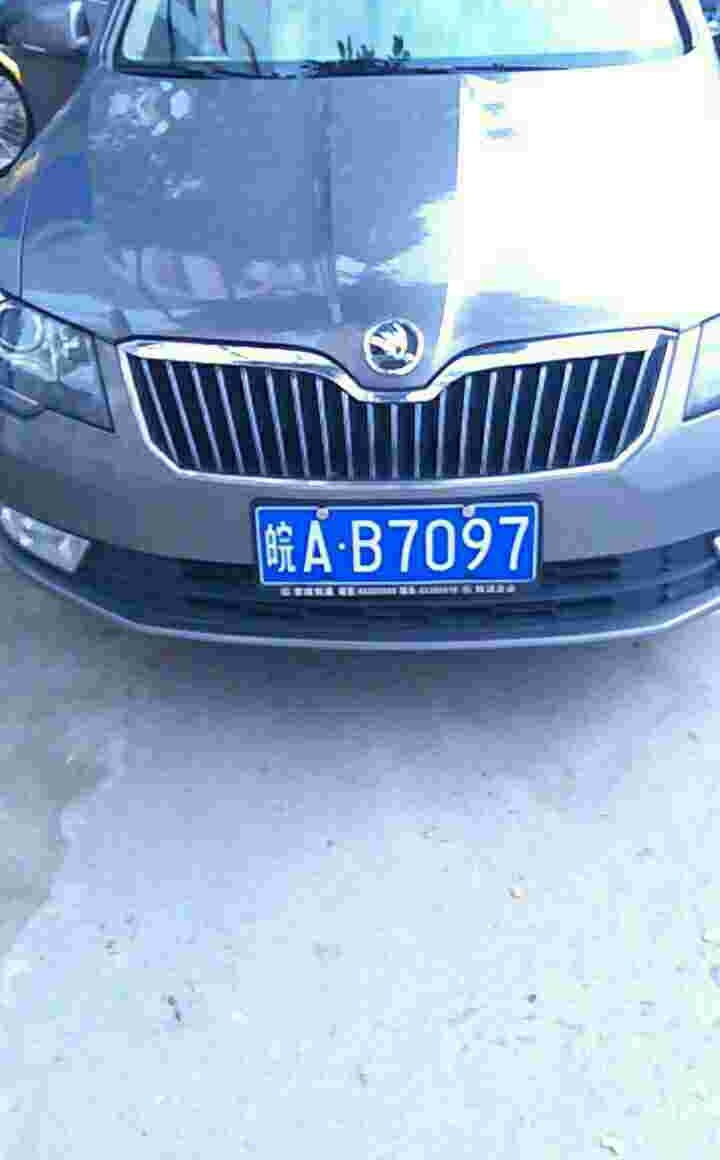license_plate: (260, 507, 546, 589)
